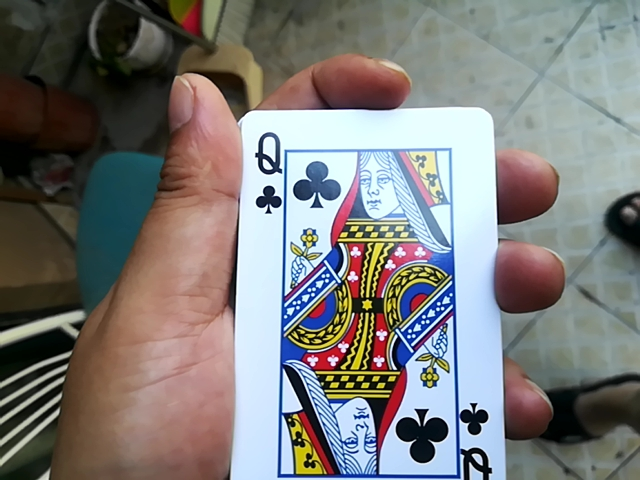mh q: (214, 98, 493, 474)
